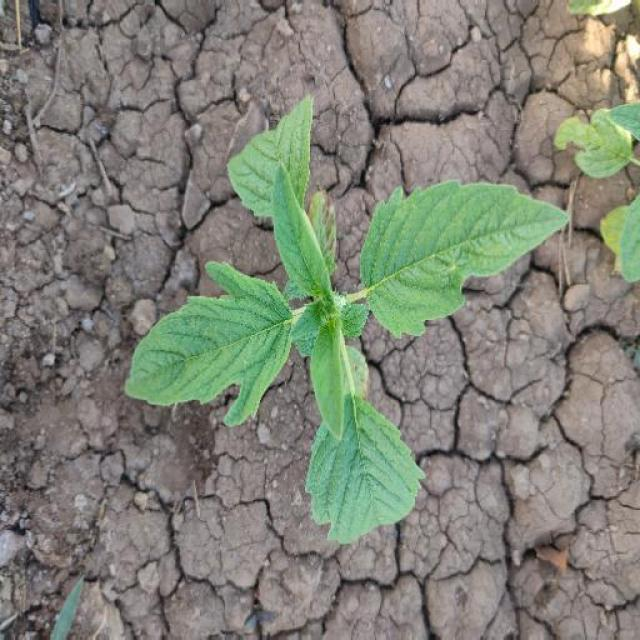crop: (116, 105, 575, 544)
